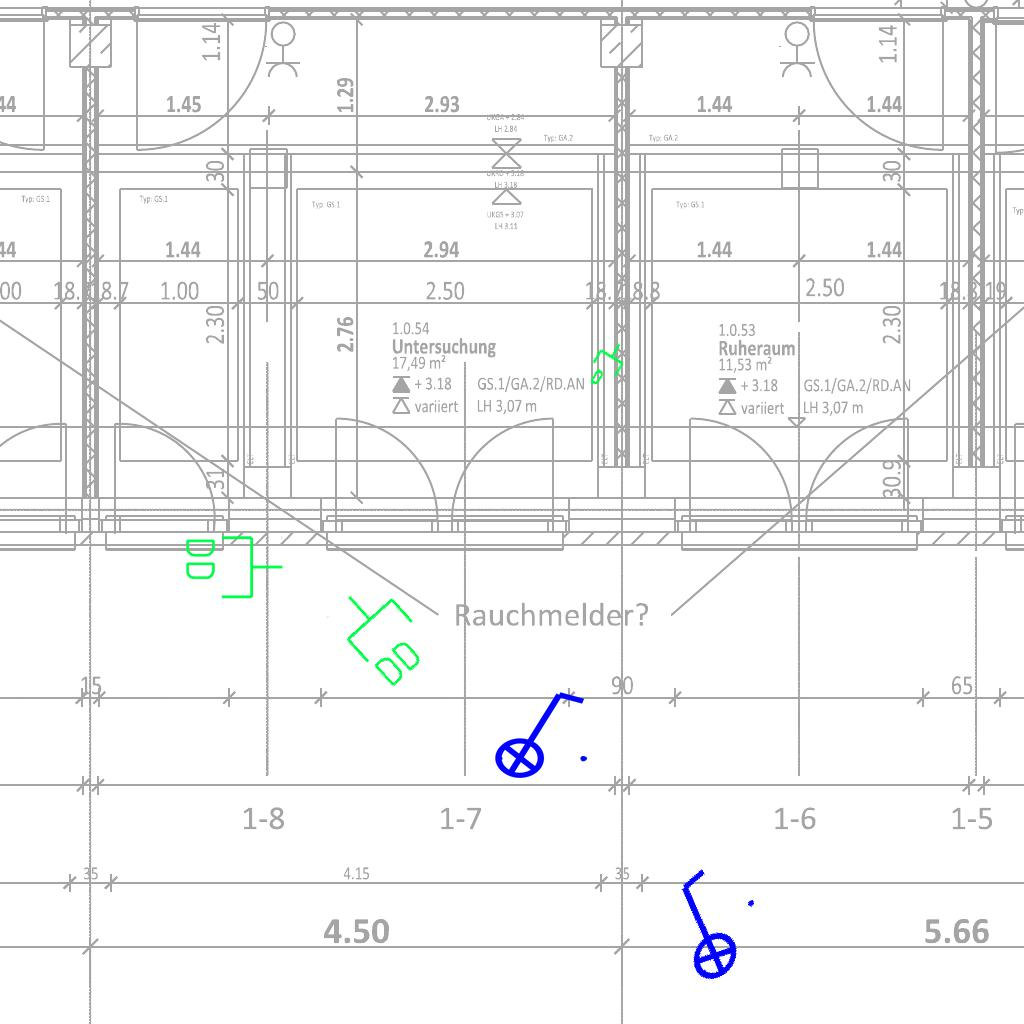Ausschalter_beleuchtet: (631, 853, 775, 1001), (481, 684, 593, 780)
Datenanschluss_einfach: (580, 334, 636, 396)
Datenanschluss_zweifach: (321, 572, 442, 695), (182, 532, 285, 601)
